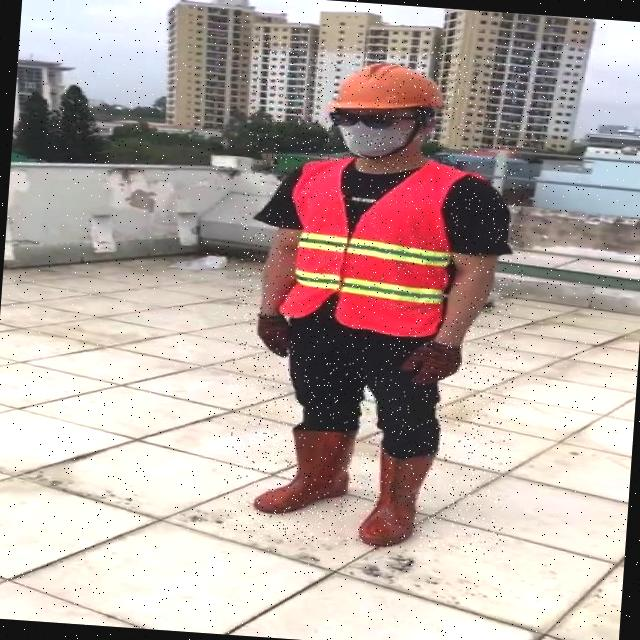boots: (255, 424, 355, 520), (358, 446, 438, 550)
helmet: (322, 55, 448, 119)
vest: (278, 154, 468, 338)
